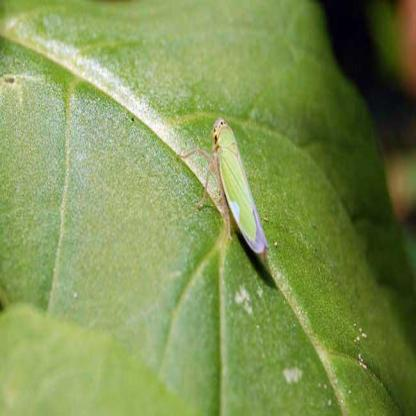Green-Leafhopper: (184, 115, 270, 258)
